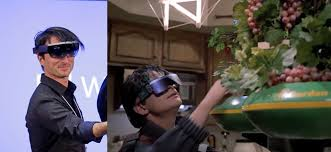hololens: (32, 42, 80, 60)
